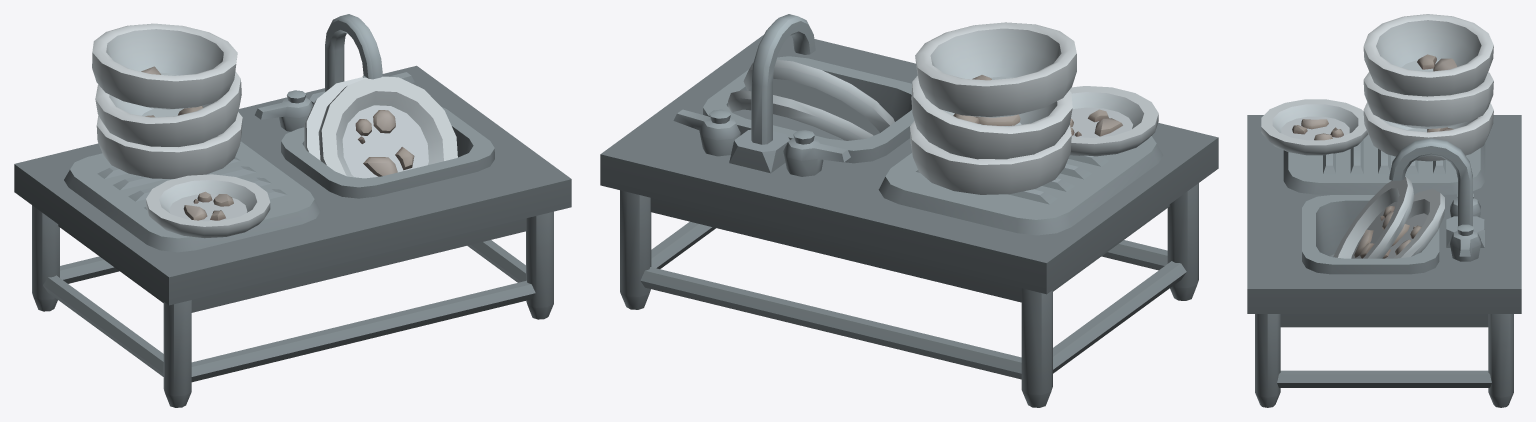
File: kay-kitchentable_sink_large_decorated.glb
3 views of the same model, side by side, from view 1: azimuth 30°, elevation 25°; view 2: azimuth 150°, elevation 25°; view 3: azimuth 270°, elevation 25° (orthographic). The views are drawn at different scales.
Parts seen in each view (by area): view 1: kitchentable_sink_large_decorated; view 2: kitchentable_sink_large_decorated; view 3: kitchentable_sink_large_decorated.
Part boxes in pixels (x1,y1,x2,y2): kitchentable_sink_large_decorated: [14, 14, 571, 407]; kitchentable_sink_large_decorated: [600, 14, 1218, 407]; kitchentable_sink_large_decorated: [1247, 14, 1521, 407].
Size of the model in its own units: 1.8 by 1.17 by 1.2.
1 material, 1 textured.
